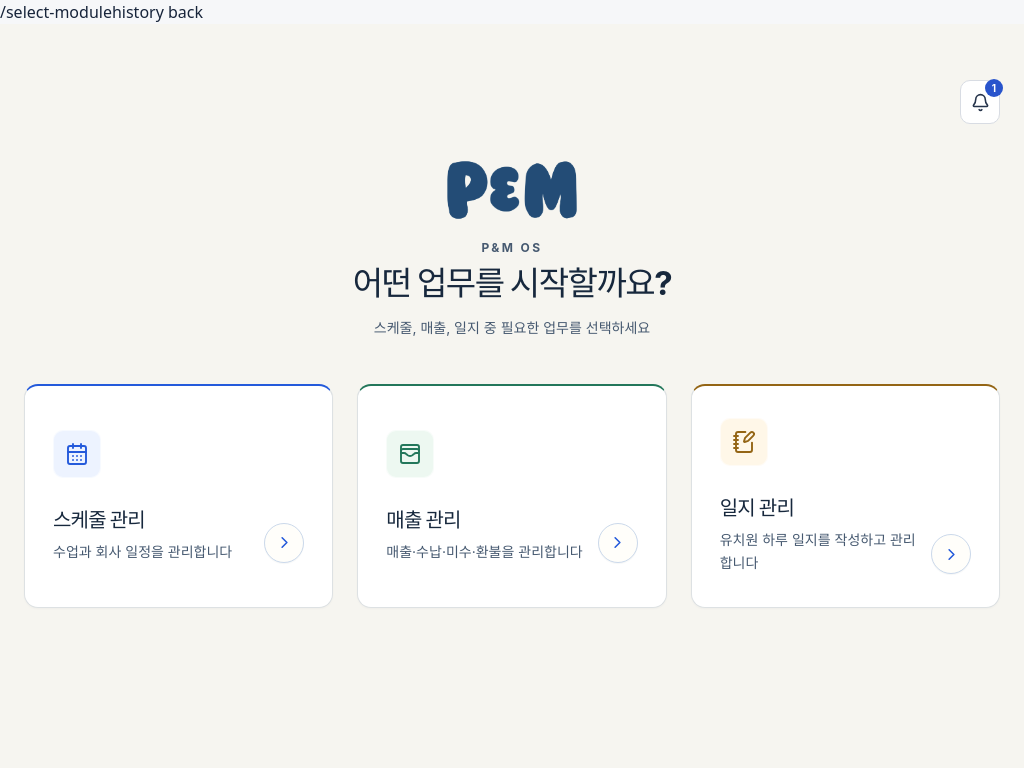
Module Gate unread/read (null) selects Calendar without document reload or bounce
What coordinates should you click on to do the following:
click the button named "알림센터, 읽지 않은"
I would click on:
 (980, 102)
Its box is x1=960 y1=80 x2=1000 y2=124.
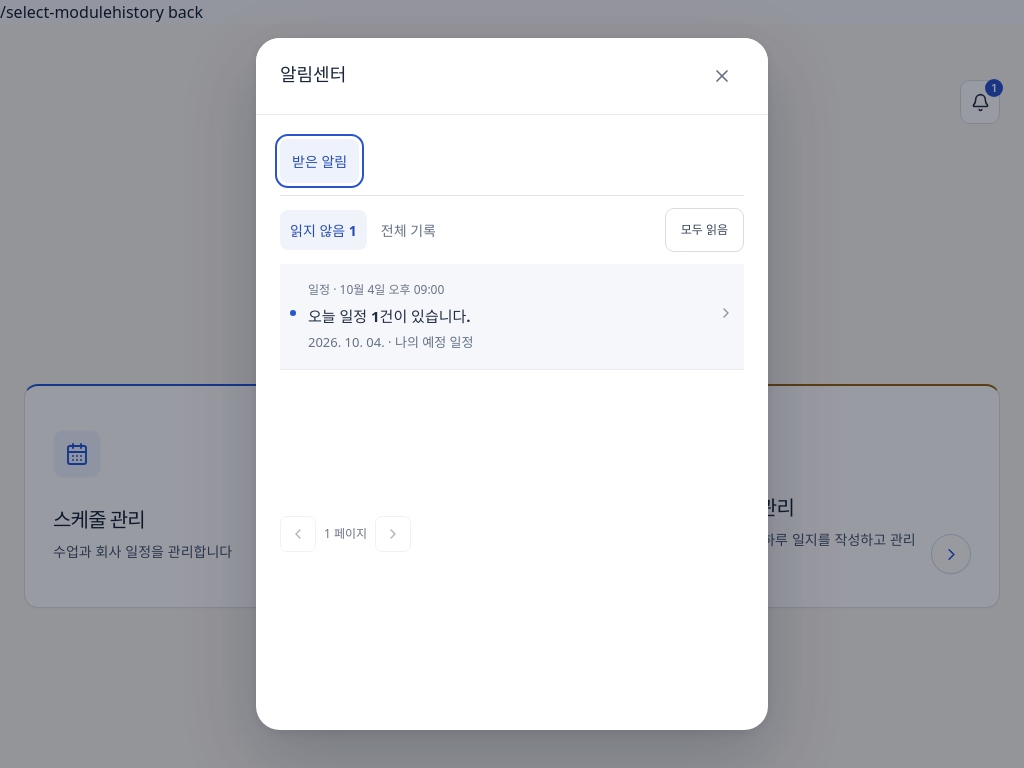
What coordinates should you click on to do the following:
click the button "오늘 일정 1건"
I would click on:
 (392, 290)
Its box is x1=280 y1=264 x2=744 y2=370.
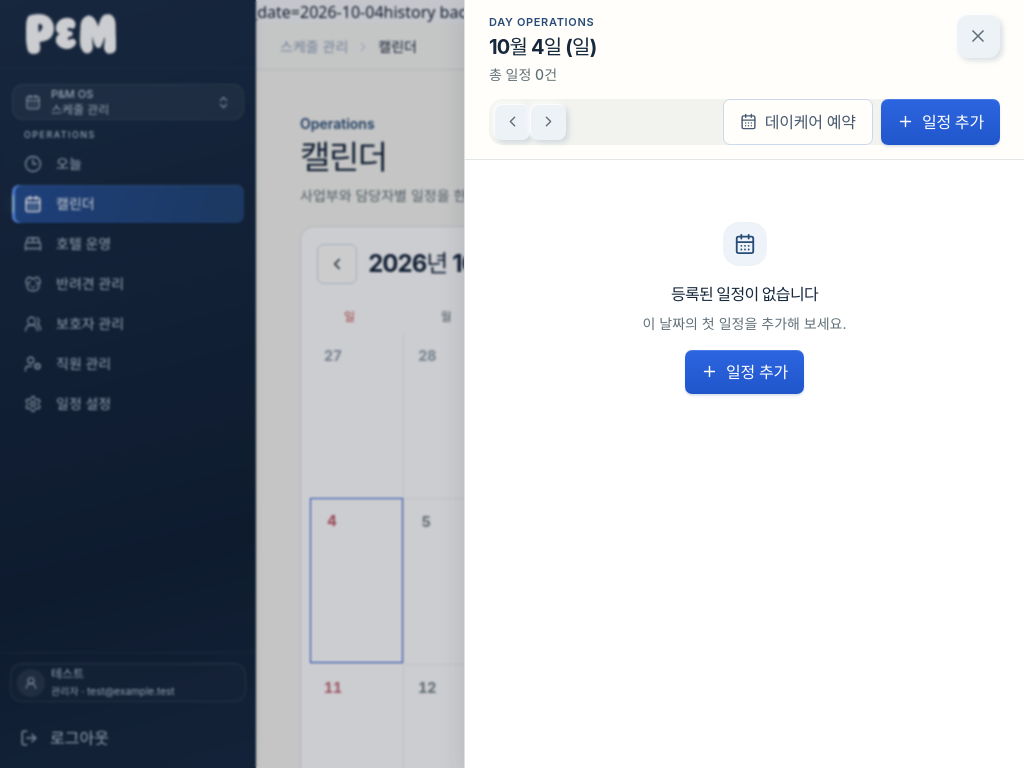
expect the text with test id "route" reads "/operations/calendar?notification_date=2026-10-04": met, box x1=0 y1=1 x2=384 y2=23
expect the dialog "일정" is shown: met, box x1=464 y1=0 x2=1023 y2=767
